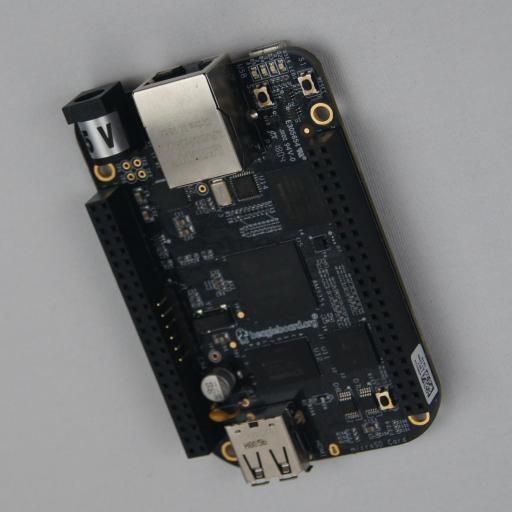Beaglebone Black: (62, 41, 442, 486)
